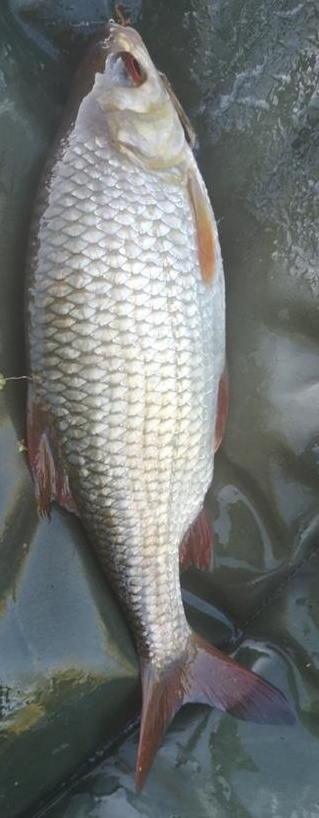Scardinius erythrophthalmus: (20, 20, 299, 798)
